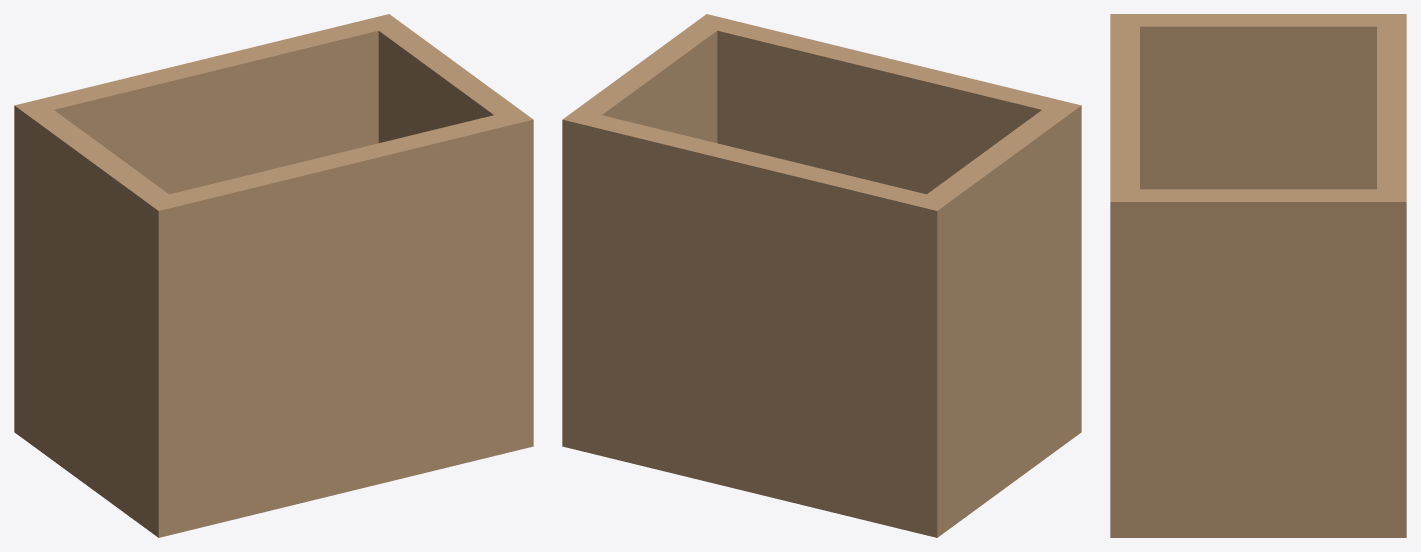
Rendered from planter_box_v10.glb.
3 views of the same model, side by side, from view 1: azimuth 30°, elevation 25°; view 2: azimuth 150°, elevation 25°; view 3: azimuth 270°, elevation 25° (orthographic). The views are drawn at different scales.
Visible parts, largest first — view 1: PlanterBox; view 2: PlanterBox; view 3: PlanterBox.
Boxes of the visible parts, bbox=[...] form: PlanterBox: bbox=[14, 14, 533, 537]; PlanterBox: bbox=[562, 14, 1081, 537]; PlanterBox: bbox=[1110, 14, 1406, 537].
Size of the model in its own units: 0.3 by 0.25 by 0.2.
